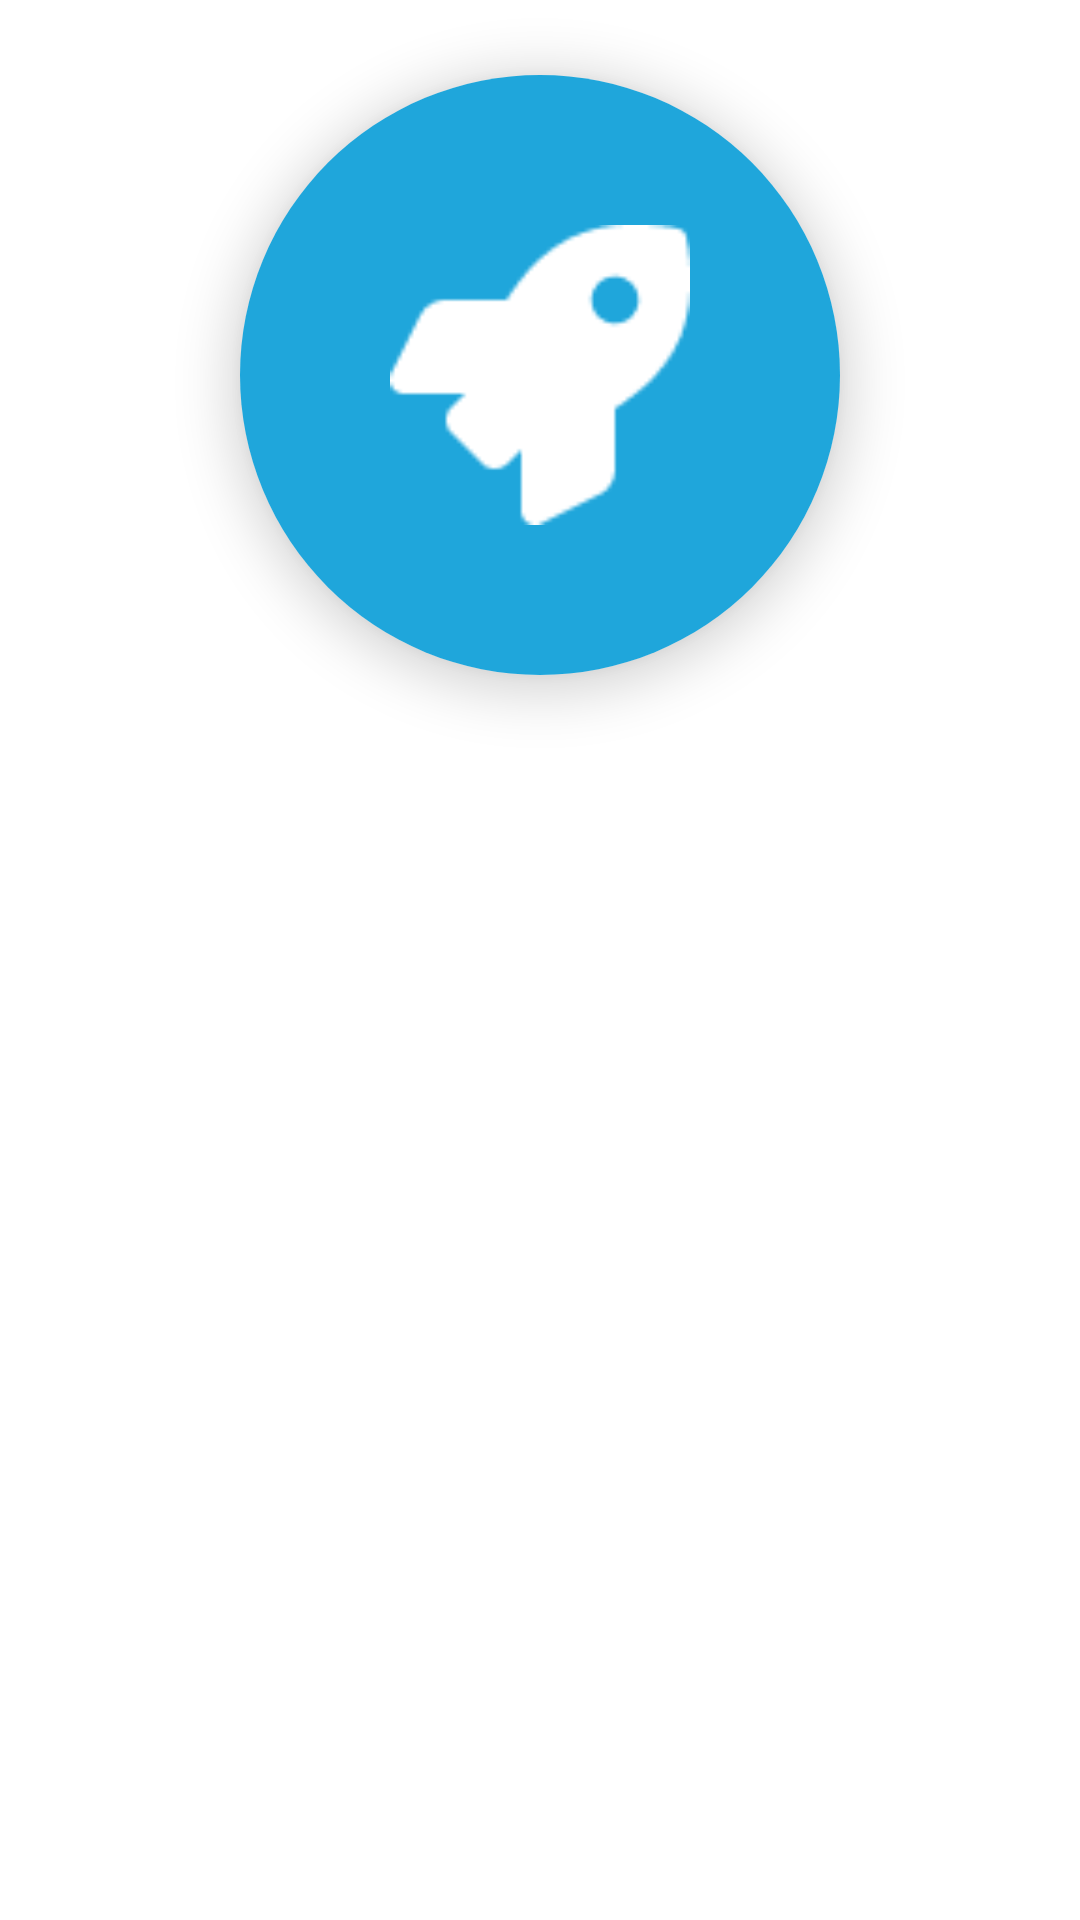

Named icons in this screenshot (1080 × 1920) and their bounding boxes, (x1, y1, x2, y2):
exec: (390, 225, 690, 525)
